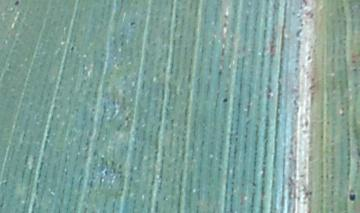tarspot: (347, 189, 356, 205), (222, 96, 229, 104), (129, 20, 136, 28), (222, 12, 230, 19), (222, 20, 228, 29), (301, 1, 309, 7), (13, 1, 20, 7), (69, 44, 75, 51)
